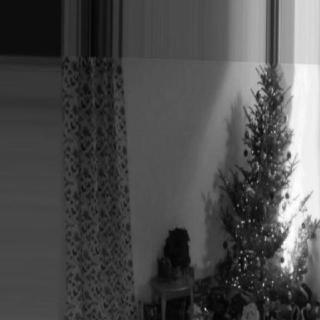other: (160, 213, 196, 277)
